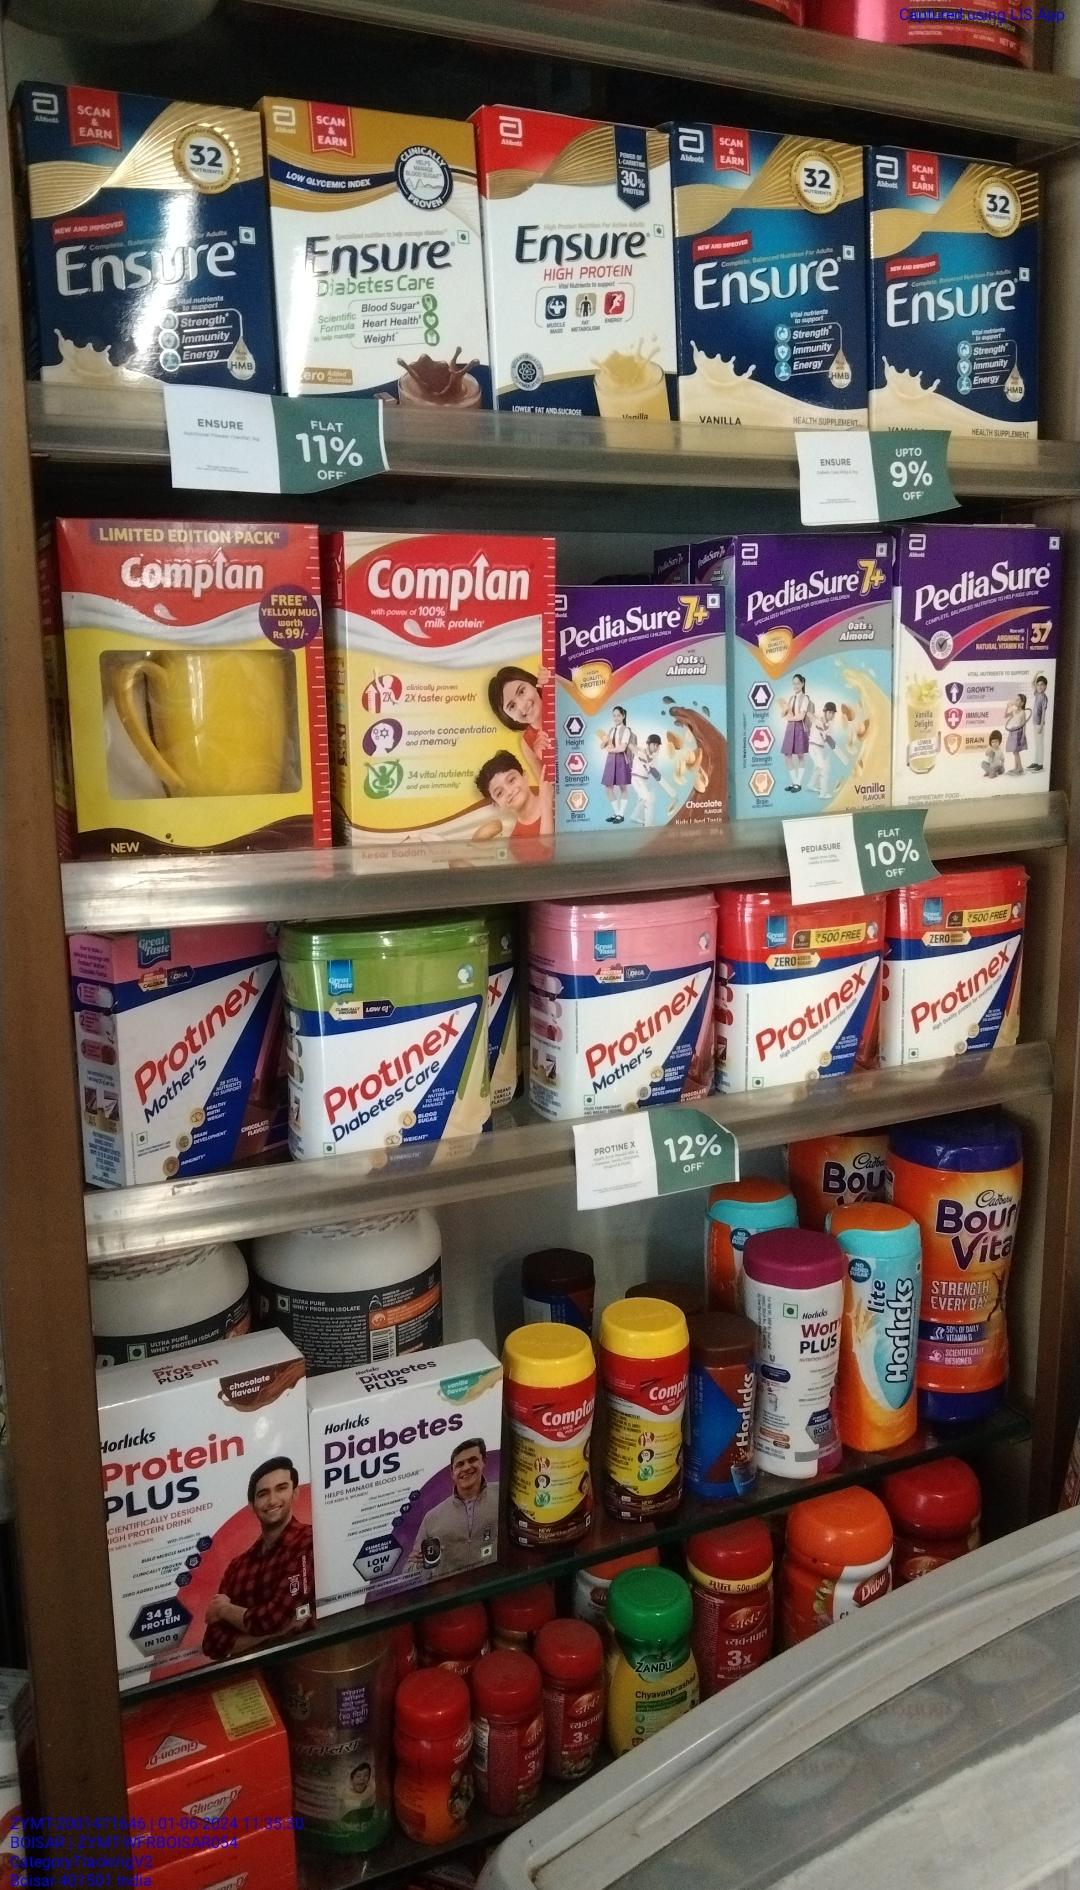COMPLAN_CHOCOLATE_200_GMS_JAR: (605, 1301, 688, 1524), (510, 1324, 597, 1536)
ENSURE_VANILLA_400_G_PACK: (42, 84, 267, 404), (679, 144, 865, 443), (876, 157, 1044, 437)
HORLICKS_LITE_REGULAR_MALT_500_GM_JAR: (840, 1203, 928, 1456)
PEDIASURE_7_PLUS_CHOCOLATE_400_G_PACK: (553, 589, 727, 846)
